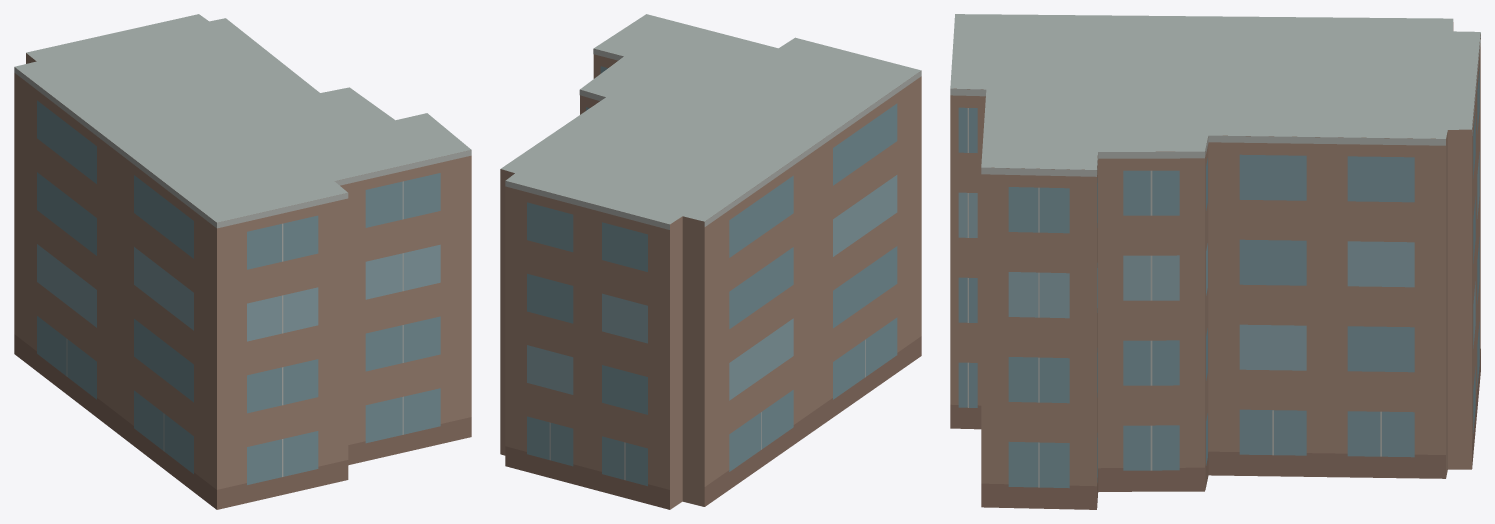
The model's file is survey-upis-32925233.glb.
3 renders of one model, left to right at view 1: azimuth 30°, elevation 25°; view 2: azimuth 150°, elevation 25°; view 3: azimuth 270°, elevation 25°, orthographic. The views are drawn at different scales.
Visible parts, largest first — view 1: survey-upis-32925233.tmp; view 2: survey-upis-32925233.tmp; view 3: survey-upis-32925233.tmp.
Part boxes in pixels (x1=…): survey-upis-32925233.tmp: x1=14, y1=14, x2=471, y2=509; survey-upis-32925233.tmp: x1=500, y1=14, x2=921, y2=509; survey-upis-32925233.tmp: x1=950, y1=14, x2=1480, y2=509.
Size of the model in its own units: 12.02 by 12.2 by 17.27.
